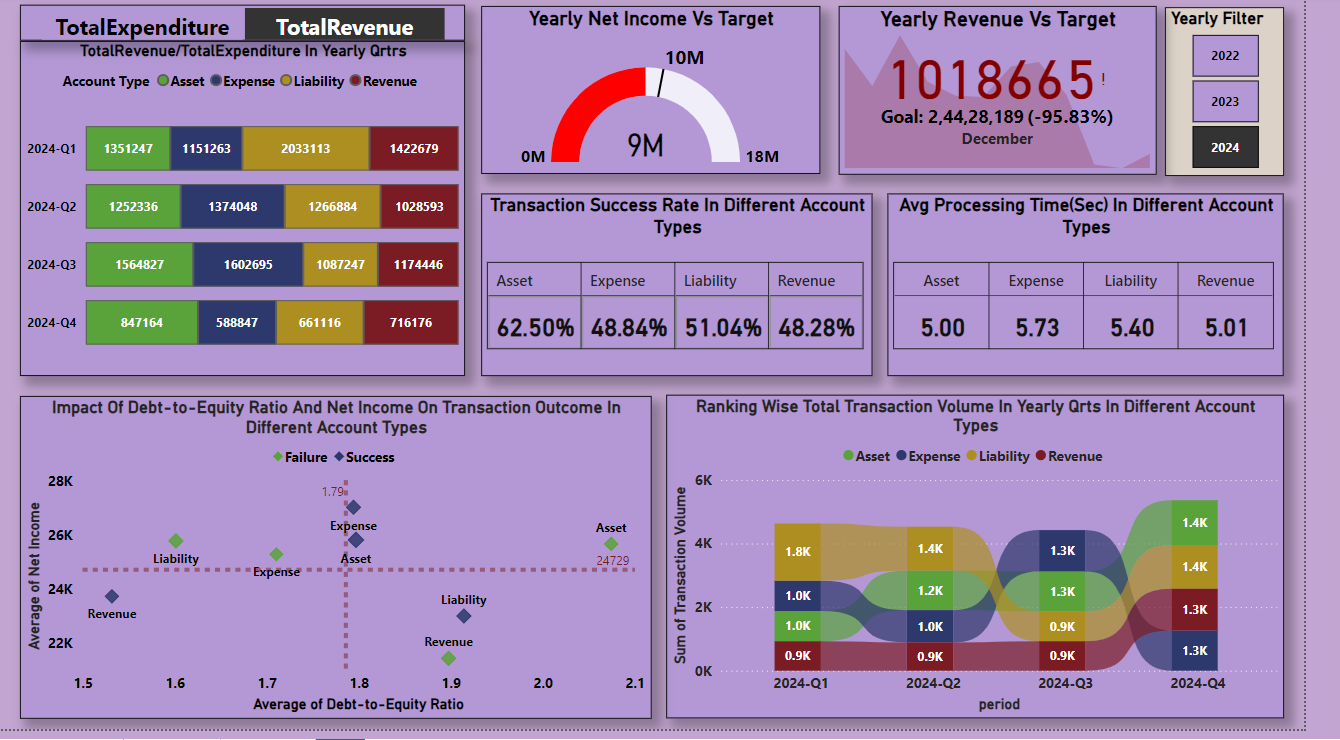

The dashboard page shown, as its layout file describes it:
{"tool":"powerbi","page":{"name":"Page 2","canvas":[1280,720],"ordinal":0},"visuals":[{"type":"hundredPercentStackedBarChart","title":"TotalRevenue/TotalExpenditure In Yearly Qrtrs","fields":{"Category":["accounting_data.period"],"Series":["accounting_data.Account Type"]},"box":[19.6,44.2,436.8,328.8],"z":0},{"type":"slicer","fields":{"Values":["Values.Values"]},"box":[19.6,8.6,436.8,35.6],"z":1000},{"type":"slicer","title":"Yearly Filter","fields":{"Values":["accounting_data.Date.Variation.Date Hierarchy.Year"]},"box":[1143.6,11,116.6,165.6],"z":2000},{"type":"gauge","title":"Yearly Net Income Vs Target","fields":{"Y":["Sum(accounting_data.Net Income)"],"TargetValue":["Measures (2).Target"],"MaxValue":["Measures (2).max_netincom"]},"box":[472.4,9.8,332.5,164.4],"z":3000},{"type":"ribbonChart","title":"Ranking Wise Total Transaction Volume In Yearly Qrts In Different Account Types","fields":{"Series":["accounting_data.Account Type"],"Category":["accounting_data.period"],"Y":["Sum(accounting_data.Transaction Volume)"]},"box":[654,391.4,606.1,317.8],"z":4000},{"type":"kpi","title":"Yearly Revenue Vs Target","fields":{"Indicator":["Sum(accounting_data.Revenue)"],"Goal":["Measures (2).target_revenue"],"TrendLine":["accounting_data.Date.Variation.Date Hierarchy.Month"]},"box":[823.3,9.8,311.7,165.6],"z":5000},{"type":"scatterChart","title":"Impact Of Debt-to-Equity Ratio And Net Income On Transaction Outcome In Different Account Types","fields":{"X":["Avg(accounting_data.Debt-to-Equity Ratio)"],"Y":["Avg(accounting_data.Net Income)"],"Category":["accounting_data.Account Type"],"Size":["Sum(accounting_data.Transaction Amount)"],"Series":["accounting_data.Transaction Outcome"]},"box":[19.6,392.6,619.6,316.6],"z":6000},{"type":"cardVisual","title":"Transaction Success Rate In Different Account Types","fields":{"Rows":["accounting_data.Account Type"],"Data":["Measures (2).%of_SuccessOutcome"]},"box":[472.4,193.9,384.1,179.1],"z":7000},{"type":"cardVisual","title":"Avg Processing Time(Sec) In Different Account Types","fields":{"Rows":["accounting_data.Account Type"],"Data":["Measures (2).Avg_Proceesing_Time"]},"box":[871.2,193.9,389,179.1],"z":8000}]}

Visuals, with their boxes in screenshot pixels (x1, y1, x2, y2), scaled from the page's 1280x720 canvas onto the 1340x740 screenshot:
"TotalRevenue/TotalExpenditure In Yearly Qrtrs" hundredPercentStackedBarChart: 21, 45, 478, 383
slicer - Values.Values: 21, 9, 478, 45
"Yearly Filter" slicer: 1197, 11, 1319, 182
"Yearly Net Income Vs Target" gauge: 495, 10, 843, 179
"Ranking Wise Total Transaction Volume In Yearly Qrts In Different Account Types" ribbonChart: 685, 402, 1319, 729
"Yearly Revenue Vs Target" kpi: 862, 10, 1188, 180
"Impact Of Debt-to-Equity Ratio And Net Income On Transaction Outcome In Different Account Types" scatterChart: 21, 404, 669, 729
"Transaction Success Rate In Different Account Types" cardVisual: 495, 199, 897, 383
"Avg Processing Time(Sec) In Different Account Types" cardVisual: 912, 199, 1319, 383
